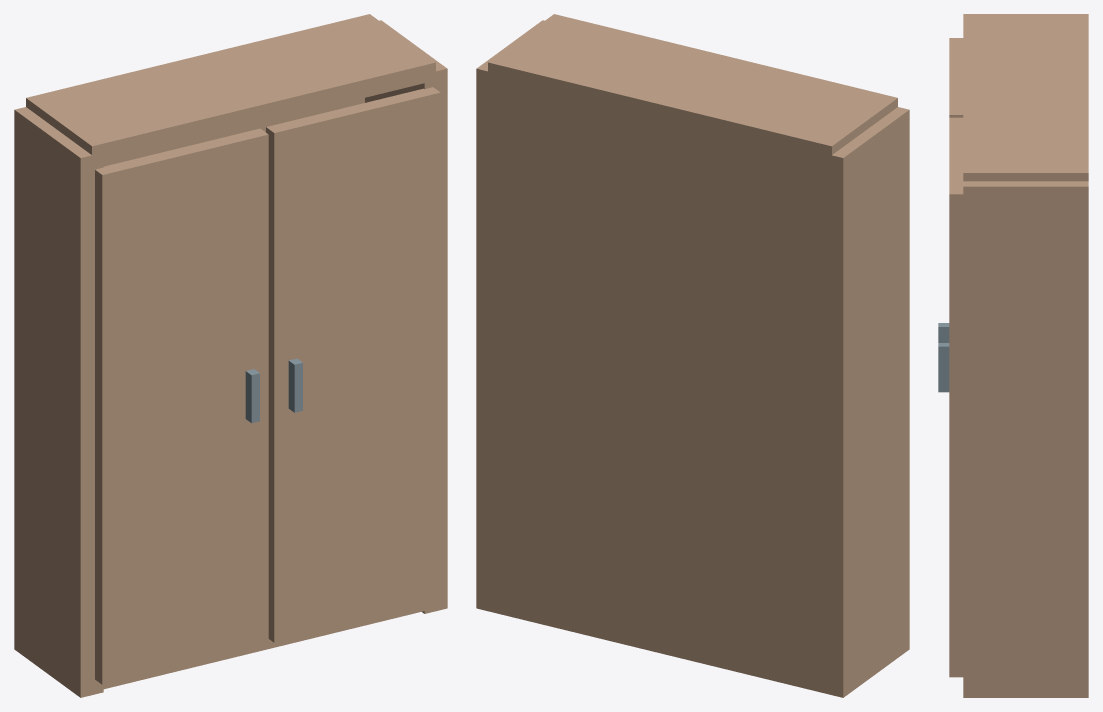
Rendered from wardrobe.glb.
3 renders of one model, left to right at view 1: azimuth 30°, elevation 25°; view 2: azimuth 150°, elevation 25°; view 3: azimuth 270°, elevation 25°, orthographic. The views are drawn at different scales.
Parts seen in each view (by area): view 1: wardrobe_007, wardrobe_009, wardrobe_000, wardrobe_006, wardrobe_001, wardrobe_003, wardrobe_002, wardrobe_008, wardrobe_010; view 2: wardrobe_002, wardrobe_000, wardrobe_006, wardrobe_001, wardrobe_003, wardrobe_005, wardrobe_004; view 3: wardrobe_001, wardrobe_006, wardrobe_009, wardrobe_007, wardrobe_010.
Part boxes in pixels (x1,y1,x2,y2): wardrobe_007: [95, 128, 268, 684]; wardrobe_009: [266, 87, 440, 642]; wardrobe_000: [14, 107, 103, 697]; wardrobe_006: [26, 14, 435, 163]; wardrobe_001: [365, 20, 447, 613]; wardrobe_003: [92, 603, 435, 691]; wardrobe_002: [103, 98, 364, 166]; wardrobe_008: [245, 369, 259, 423]; wardrobe_010: [288, 358, 302, 412]; wardrobe_002: [488, 74, 831, 694]; wardrobe_000: [820, 107, 909, 697]; wardrobe_006: [488, 14, 897, 163]; wardrobe_001: [476, 20, 544, 613]; wardrobe_003: [488, 590, 831, 691]; wardrobe_005: [488, 242, 831, 343]; wardrobe_004: [488, 426, 831, 523]; wardrobe_001: [963, 181, 1088, 697]; wardrobe_006: [963, 14, 1088, 181]; wardrobe_009: [949, 117, 963, 677]; wardrobe_007: [949, 38, 963, 117]; wardrobe_010: [938, 343, 949, 392].
Size of the model in its own units: 1.28 by 1.83 by 0.48.
